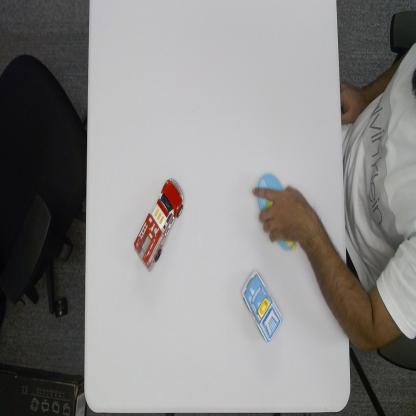Arm: (306, 224, 350, 340)
Boat: (257, 171, 295, 254)
Car: (240, 268, 284, 344)
Firetruck: (133, 176, 184, 273)
Hand: (251, 185, 309, 244)
